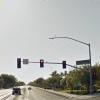Traffic light: (13, 47, 76, 80)
